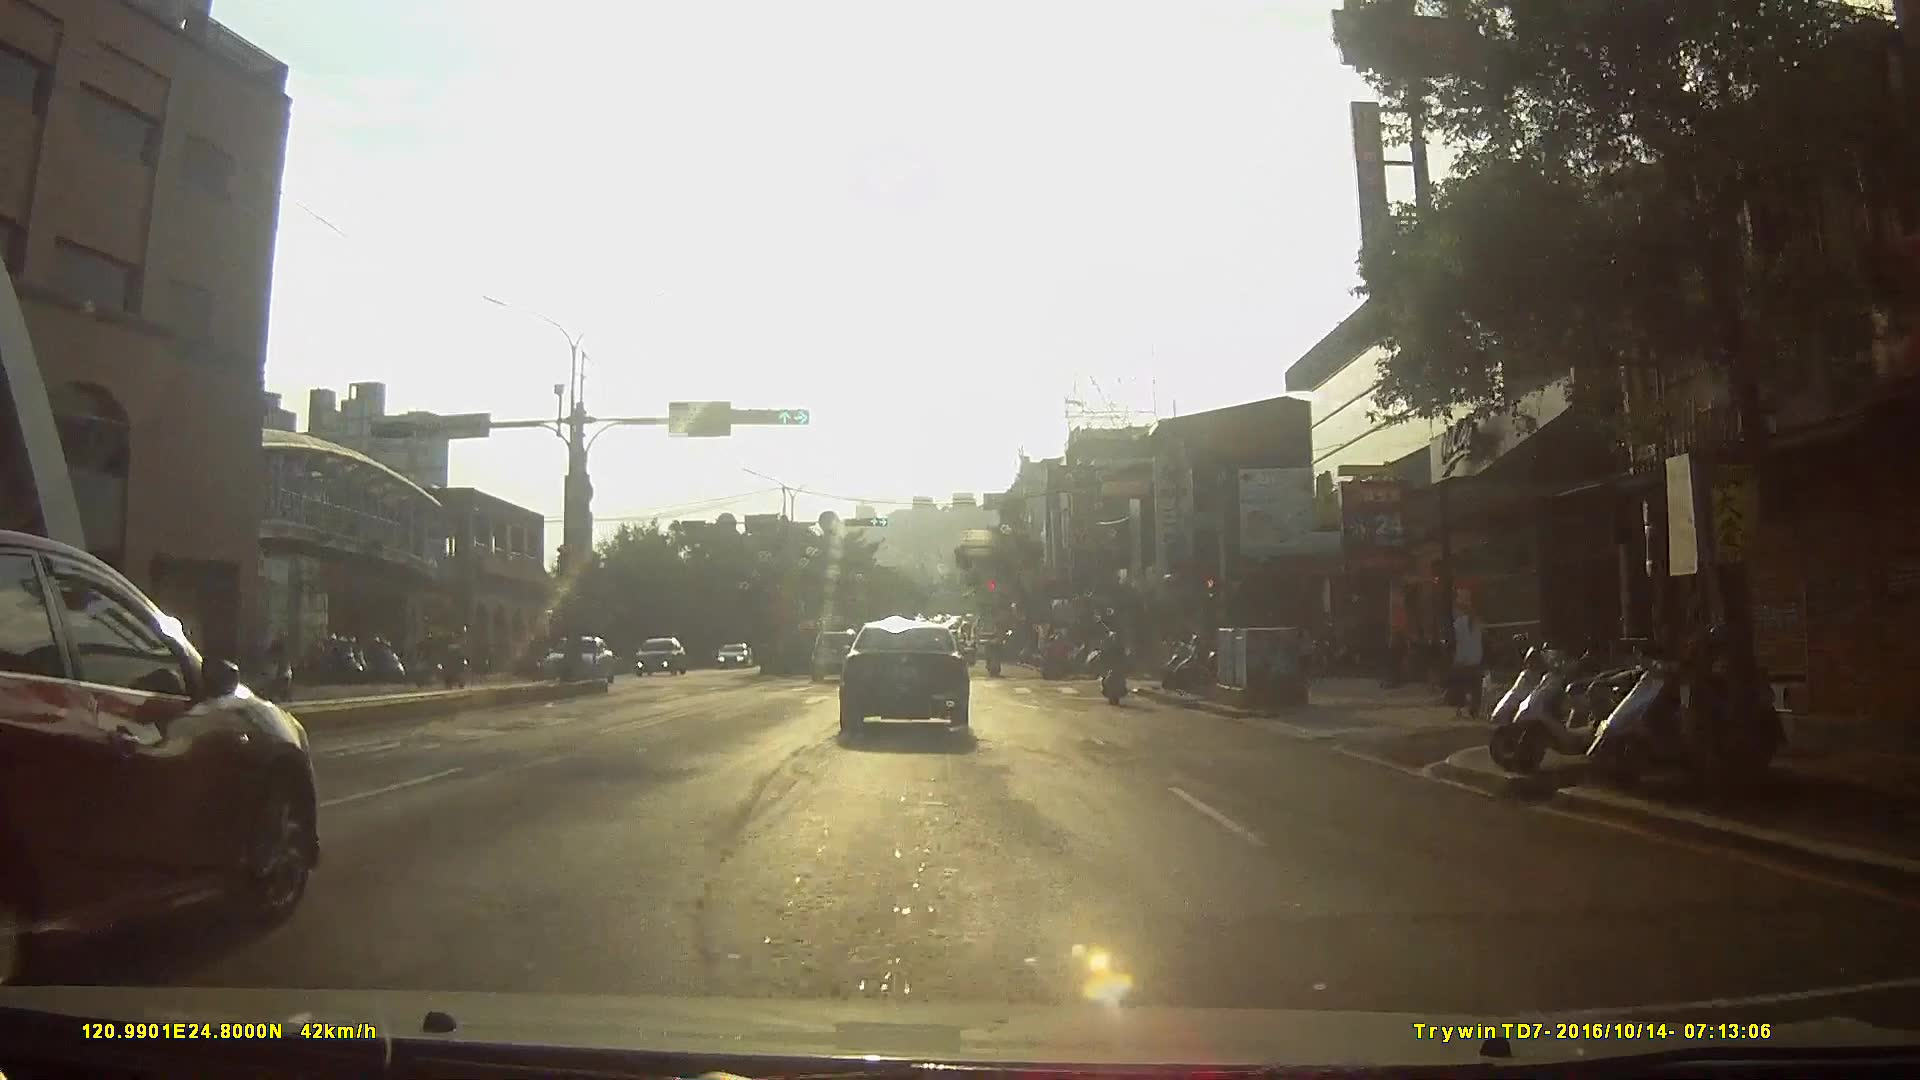pedestrian: (1439, 595, 1489, 722)
rider: (245, 627, 298, 696), (361, 633, 411, 684), (1098, 619, 1129, 699), (1038, 631, 1069, 679), (985, 634, 1005, 676)
vehicle: (1, 524, 328, 984), (836, 610, 985, 735), (539, 629, 618, 683), (809, 624, 868, 679), (635, 634, 691, 679), (712, 638, 755, 670)
